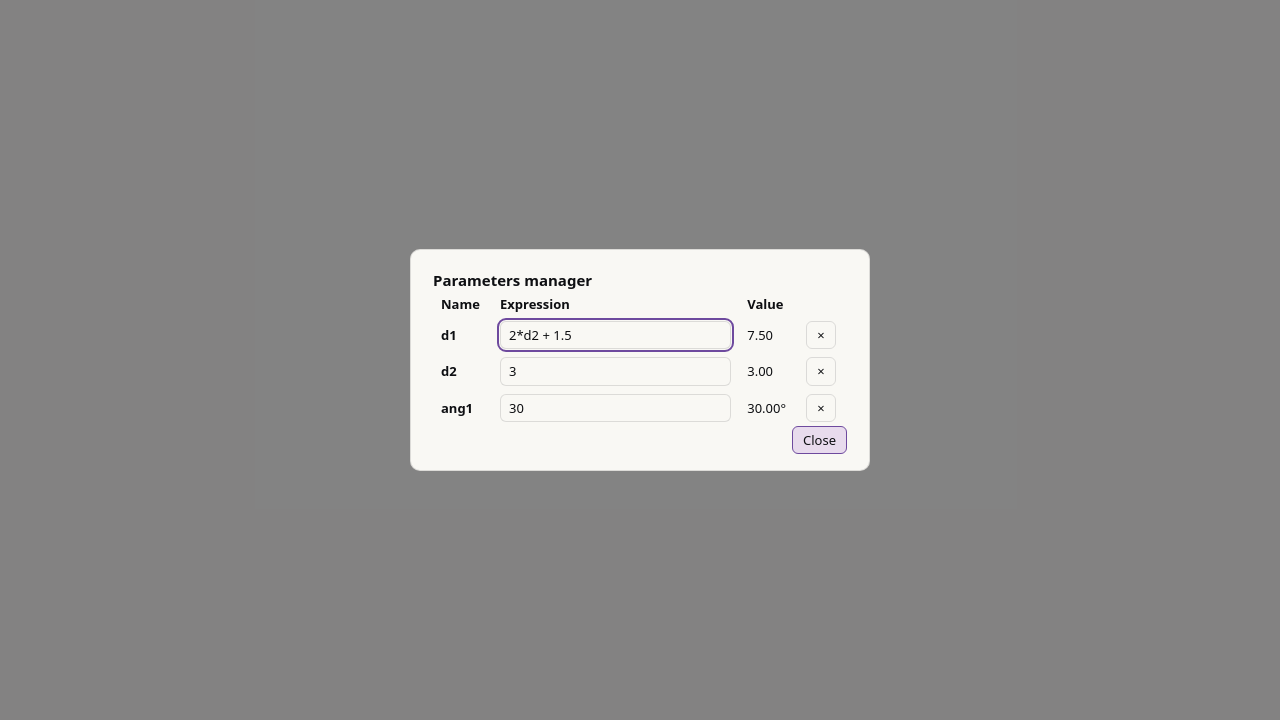
Test: a refusal (a circle) stays in the dialog
The image size is (1280, 720).
Replace the text in the field named "Expression of d2" with "d1 - 1" at [616, 372], box [500,357,731,386]
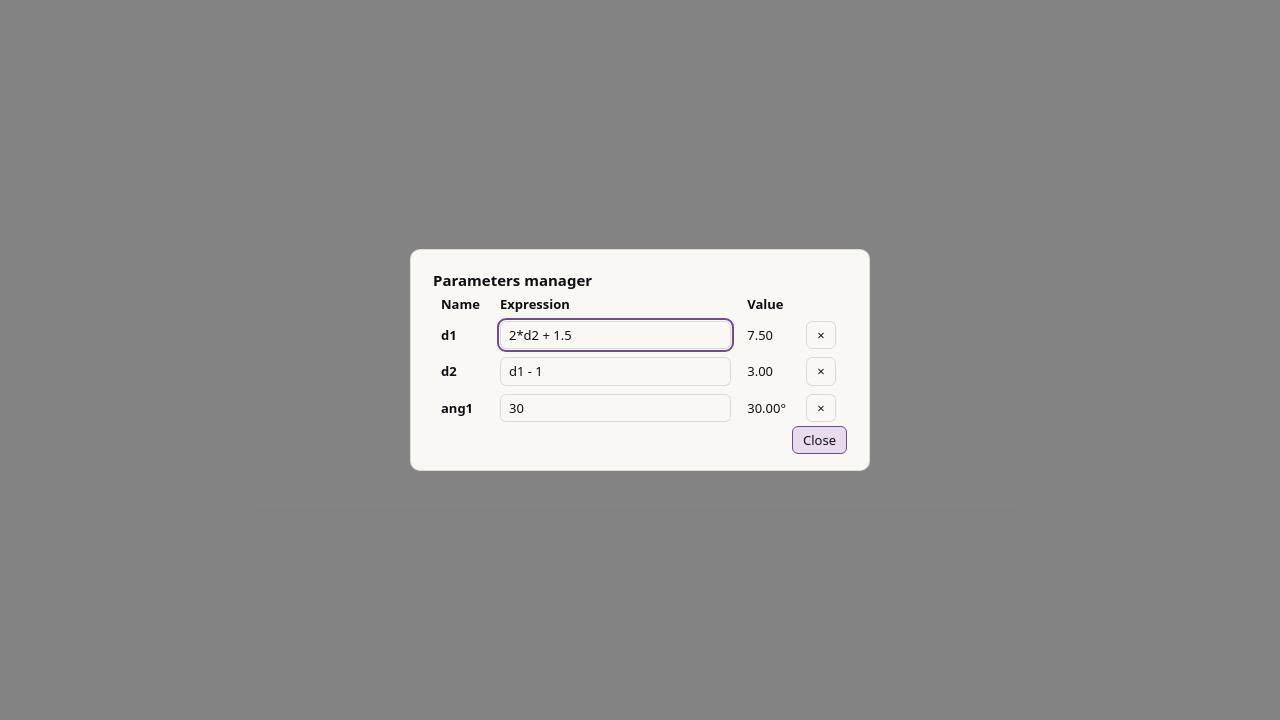
Leave the field named "Expression of d2", box [500,357,731,386]
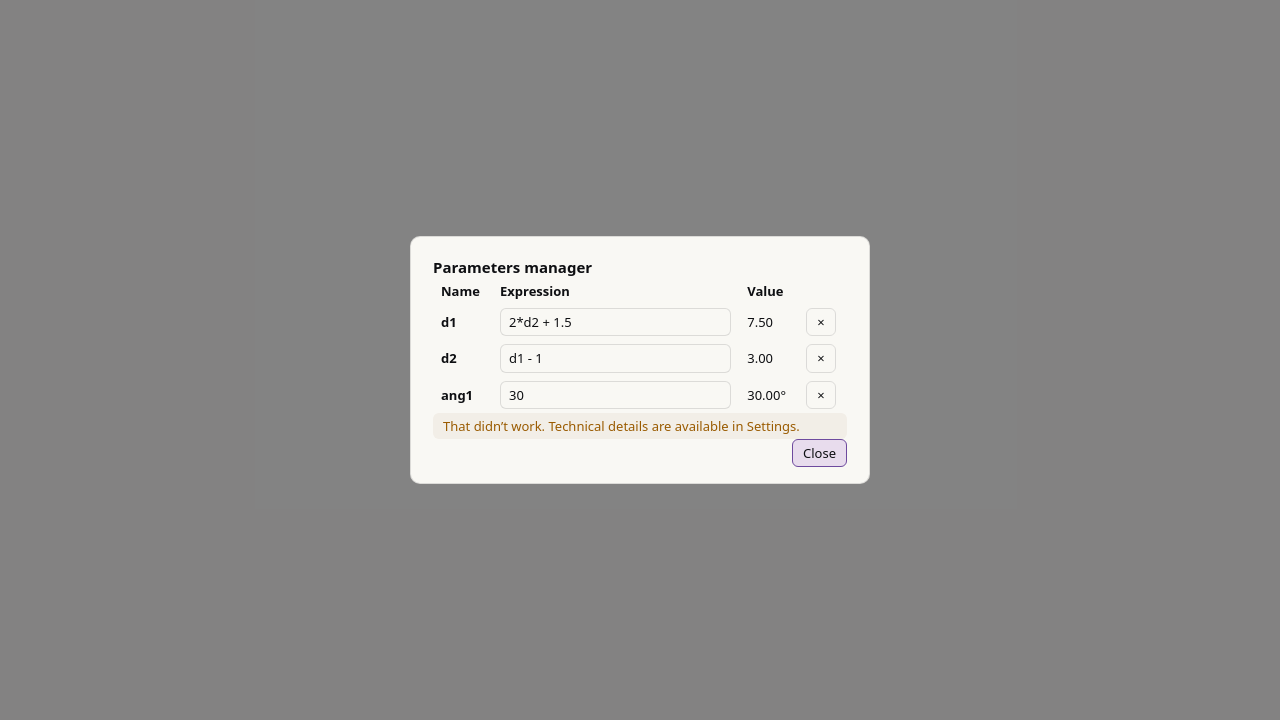
Expected: the message reads "That didn’t work. Technical details are available in Settings.", [443,417,800,435]
